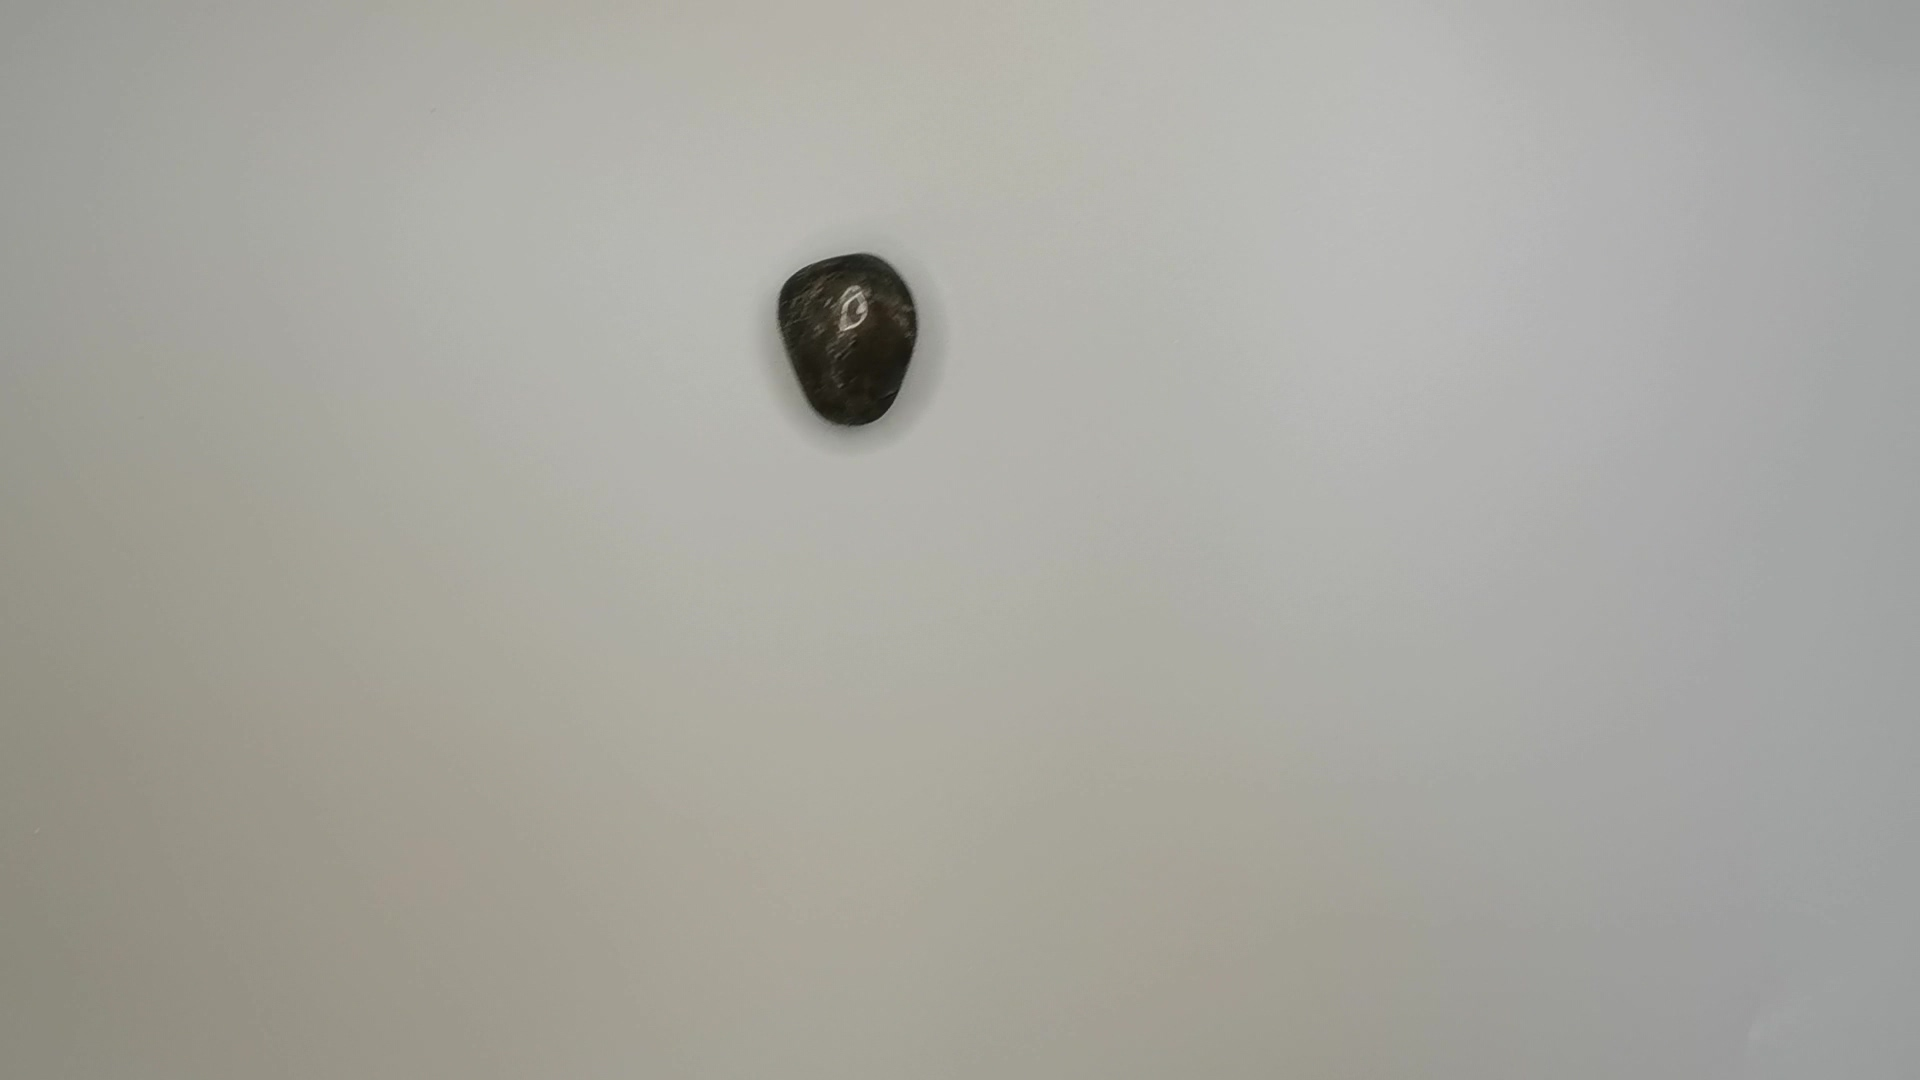ceramic: (774, 249, 928, 433)
